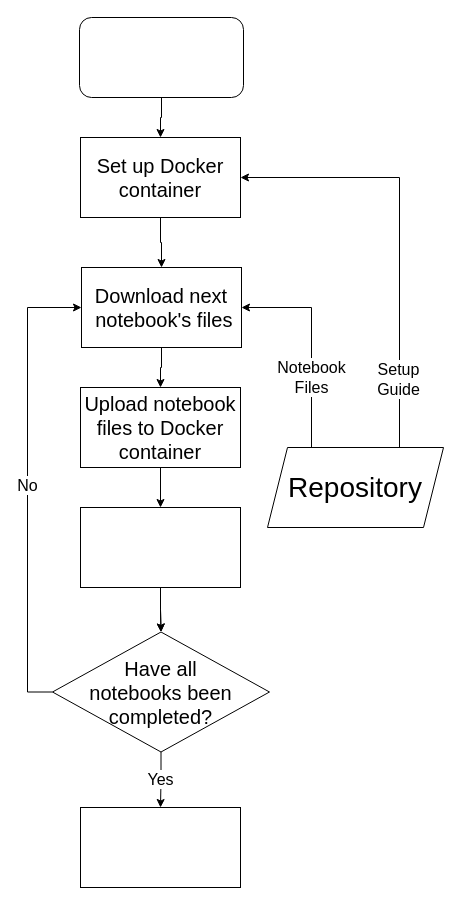
This 461x905 diagram has some shape labels left out. Here are the shapes that lost their labels. From the top down, the box of each, then its label:
(78, 16, 244, 98): Start
(80, 506, 240, 588): Read notebook and complete exercises
(80, 806, 240, 888): End
